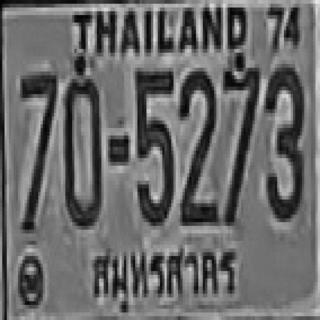N00: (64, 75, 100, 226)
N02: (177, 68, 215, 222)
N03: (264, 64, 305, 222)
N05: (134, 68, 172, 222)
N07: (18, 70, 56, 228), (221, 62, 259, 220)
P58: (86, 238, 239, 310)
